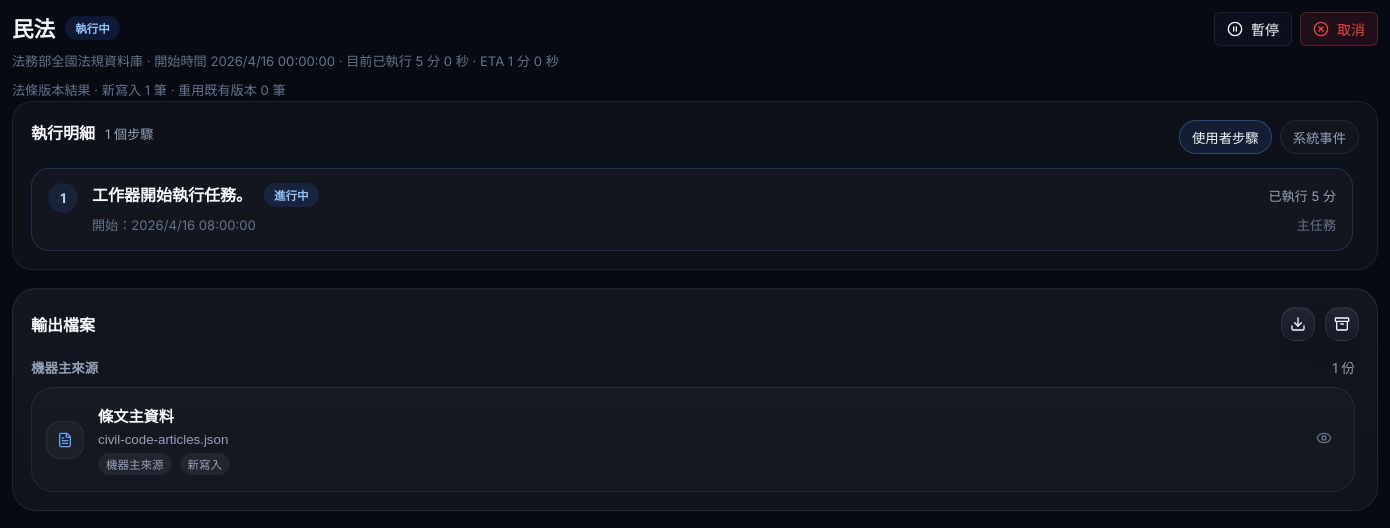
RunDetailPanel › switches between user steps and system event tabs without moving the artifact panel
Check: the text "工作器開始執行任務。" is shown, box [92, 183, 252, 207]
Click the tab "系統事件". click: (1319, 137)
box: [1280, 120, 1359, 154]
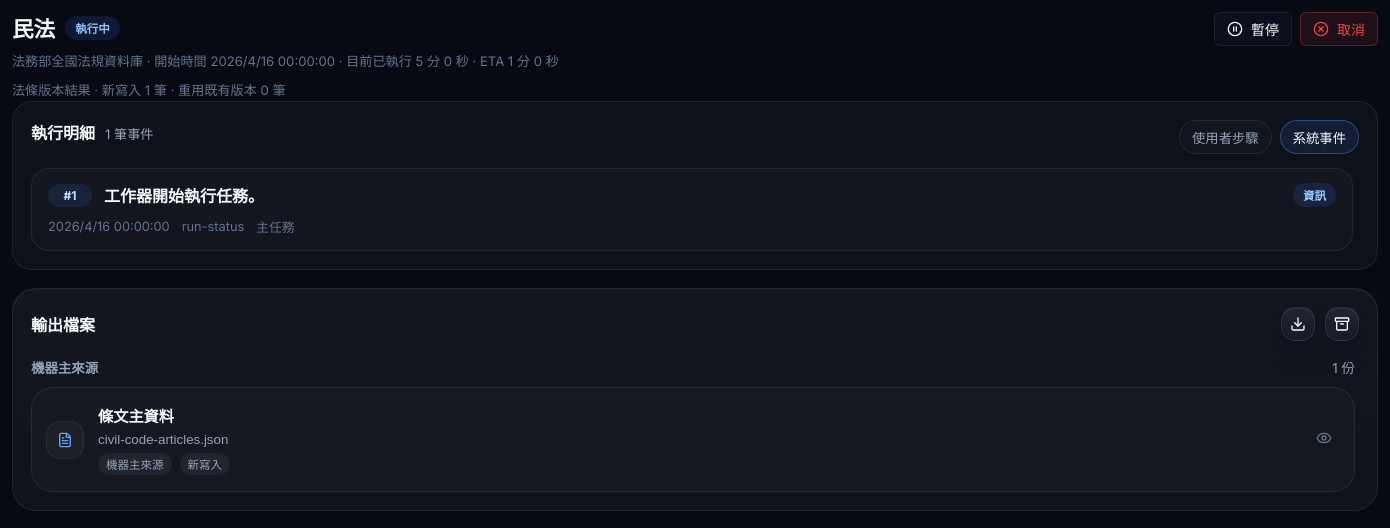
Check: the text "civil-code-articles.json" is shown, box [98, 432, 228, 447]
Check: the text "#1" is shown, box [48, 184, 92, 206]
